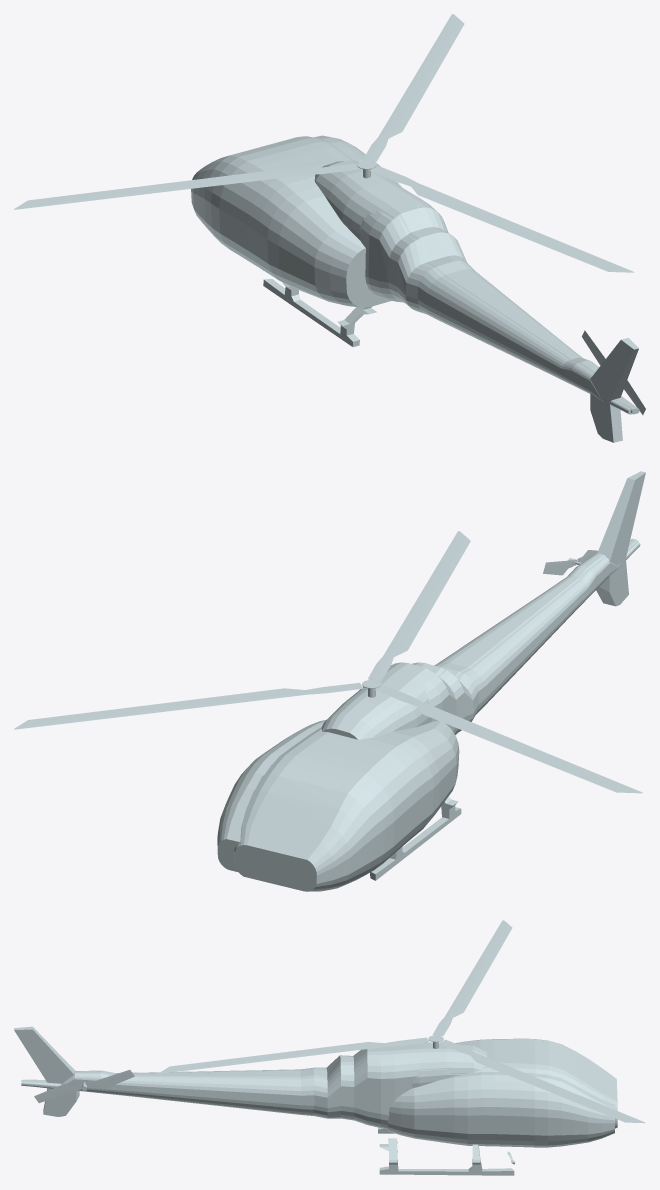
The picture shows the model from 3 angles, top to bottom: view 1: azimuth 30°, elevation 25°; view 2: azimuth 150°, elevation 25°; view 3: azimuth 270°, elevation 25°; orthographic projection. The views are drawn at different scales.
Parts seen in each view (by area): view 1: Aircraft visual hull, Rotor 1789971672562-7bmken9ft1d; view 2: Aircraft visual hull, Rotor 1789971672562-7bmken9ft1d; view 3: Aircraft visual hull, Rotor 1789971672562-7bmken9ft1d, Rotor 1789975207878-wczki242wde.
Boxes of the visible parts, <box> form: Aircraft visual hull: <box>191,135,639,442</box>; Rotor 1789971672562-7bmken9ft1d: <box>14,14,633,272</box>; Aircraft visual hull: <box>217,471,645,891</box>; Rotor 1789971672562-7bmken9ft1d: <box>14,531,642,793</box>; Aircraft visual hull: <box>14,1026,617,1175</box>; Rotor 1789971672562-7bmken9ft1d: <box>159,920,645,1123</box>; Rotor 1789975207878-wczki242wde: <box>34,1070,134,1102</box>.
Size of the model in its own units: 10.03 by 2.87 by 13.2.
